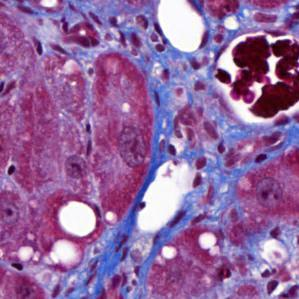inflammation: (254, 262, 285, 299), (142, 22, 172, 54)
